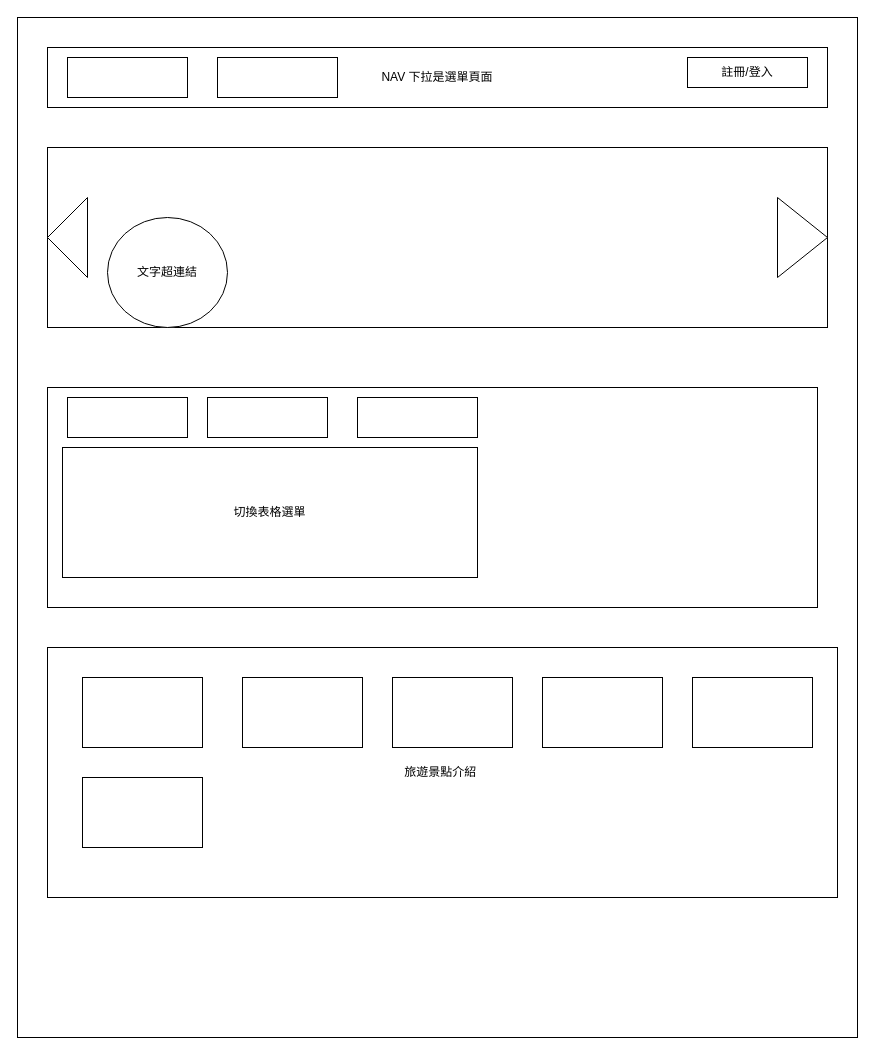
Image size: 875x1055. Some labels were removed from this diagram. The shapes that lost their labels are listed below. From the top down, each one's box as (x1, y1, x2, y2) in pixels, then its label:
(46, 146, 828, 328): 動圖
(46, 386, 818, 608): 訂票查詢表格 (互動式)
